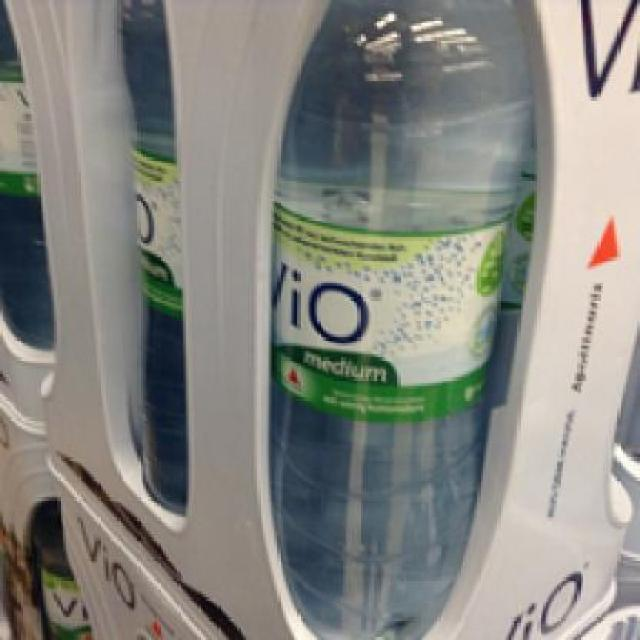Water: (268, 0, 534, 637)
